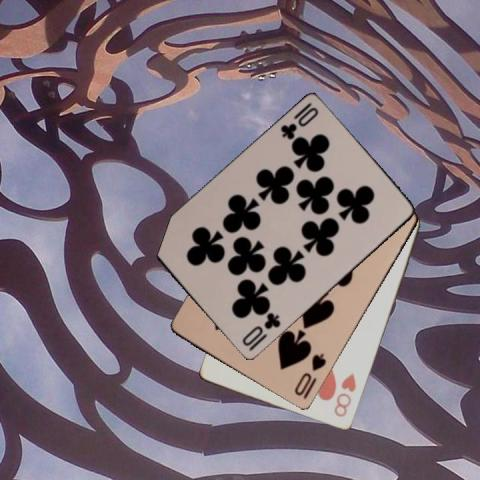10c: (239, 310, 282, 353), (277, 100, 320, 142)
10s: (291, 351, 328, 398)
8h: (331, 370, 358, 419)
